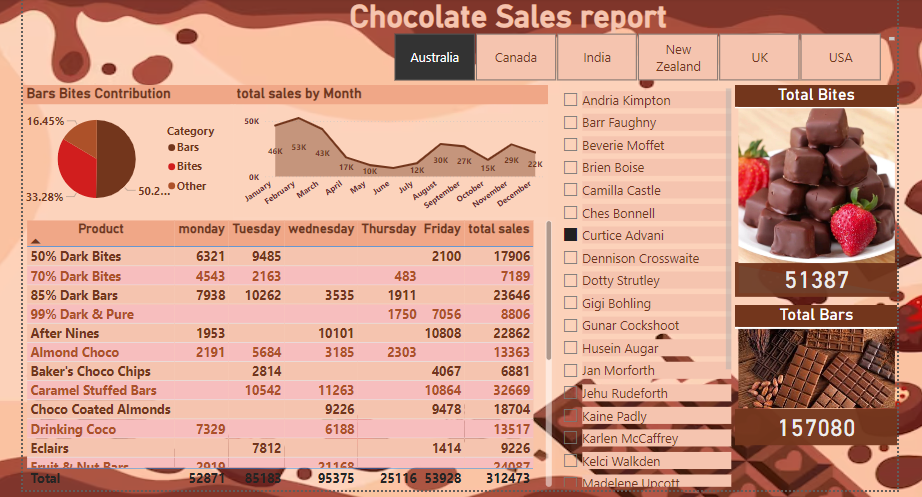

The dashboard page shown, as its layout file describes it:
{"tool":"powerbi","page":{"name":"Page 1","canvas":[1280,720],"ordinal":0},"visuals":[{"type":"textbox","title":"Chocolate Sales report","box":[140.5,0,1140,67.3],"z":0},{"type":"tableEx","fields":{"Values":["Data.Product","Calendar.monday","Calendar.Tuesday","Calendar.wednesday","Calendar.Thursday","Calendar.Friday","Calendar.total sales"]},"box":[0,320.5,778.5,399.5],"z":1000},{"type":"pieChart","title":"Bars Bites Contribution ","fields":{"Y":["Calendar.total sales"],"Category":["Other Data.Category"]},"box":[0,127.6,307.9,193.4],"z":2000},{"type":"slicer","fields":{"Values":["Data.Geography"]},"box":[518,45.4,761,82],"z":3000},{"type":"kpi","fields":{"Indicator":["Calendar.total sales"],"TrendLine":["Other Data.Category"]},"box":[1042,601.5,238.5,52.7],"z":4000},{"type":"image","box":[1042,386.3,238.5,307.3],"z":5000},{"type":"textbox","title":"Total Bars","box":[1042,449.3,238.5,35.1],"z":6000},{"type":"kpi","fields":{"TrendLine":["Other Data.Category"],"Indicator":["Calendar.total sales"]},"box":[1042,386.3,238.5,51.2],"z":7000},{"type":"image","box":[1042,144.9,238.5,256.1],"z":8000},{"type":"textbox","title":"Total Bites","box":[1042,127.3,238.5,33.7],"z":9000},{"type":"stackedAreaChart","fields":{"Y":["Calendar.total sales"],"Category":["Data.Date.Variation.Date Hierarchy.Month"]},"box":[307.3,127.3,461,202],"z":10000},{"type":"slicer","fields":{"Values":["Data.Sales Person"]},"box":[778.5,127.3,263.4,592.7],"z":11000}]}

Visuals, with their boxes on the page's 1280x720 design canvas (x1, y1, x2, y2). These are canvas units, not pixel positions in the 922x497 screenshot, which may show the page scaled, cropped or inside an application window:
"Chocolate Sales report" textbox: x1=140 y1=0 x2=1280 y2=67
tableEx - Data.Product x Calendar.monday: x1=0 y1=320 x2=778 y2=720
"Bars Bites Contribution " pieChart: x1=0 y1=128 x2=308 y2=321
slicer - Data.Geography: x1=518 y1=45 x2=1279 y2=127
kpi - Calendar.total sales x Other Data.Category: x1=1042 y1=602 x2=1280 y2=654
image: x1=1042 y1=386 x2=1280 y2=694
"Total Bars" textbox: x1=1042 y1=449 x2=1280 y2=484
kpi - Other Data.Category x Calendar.total sales: x1=1042 y1=386 x2=1280 y2=438
image: x1=1042 y1=145 x2=1280 y2=401
"Total Bites" textbox: x1=1042 y1=127 x2=1280 y2=161
stackedAreaChart - Calendar.total sales x Data.Date.Variation.Date Hierarchy.Month: x1=307 y1=127 x2=768 y2=329
slicer - Data.Sales Person: x1=778 y1=127 x2=1042 y2=720
